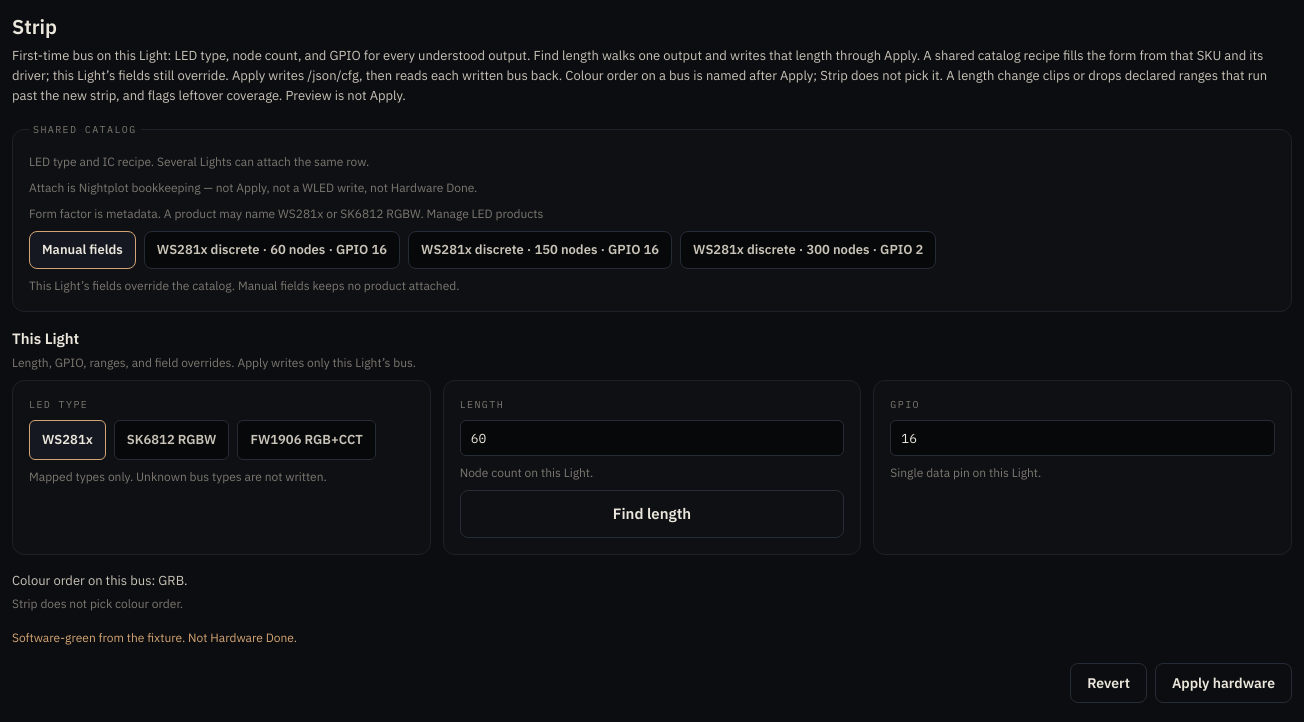
Strip provision › shows the Segment rewrite story after a length-changing Apply
What coordinates should you click on to do the following:
click the button "Apply hardware"
I would click on:
 (1223, 683)
Its box is [1155,663,1292,703].
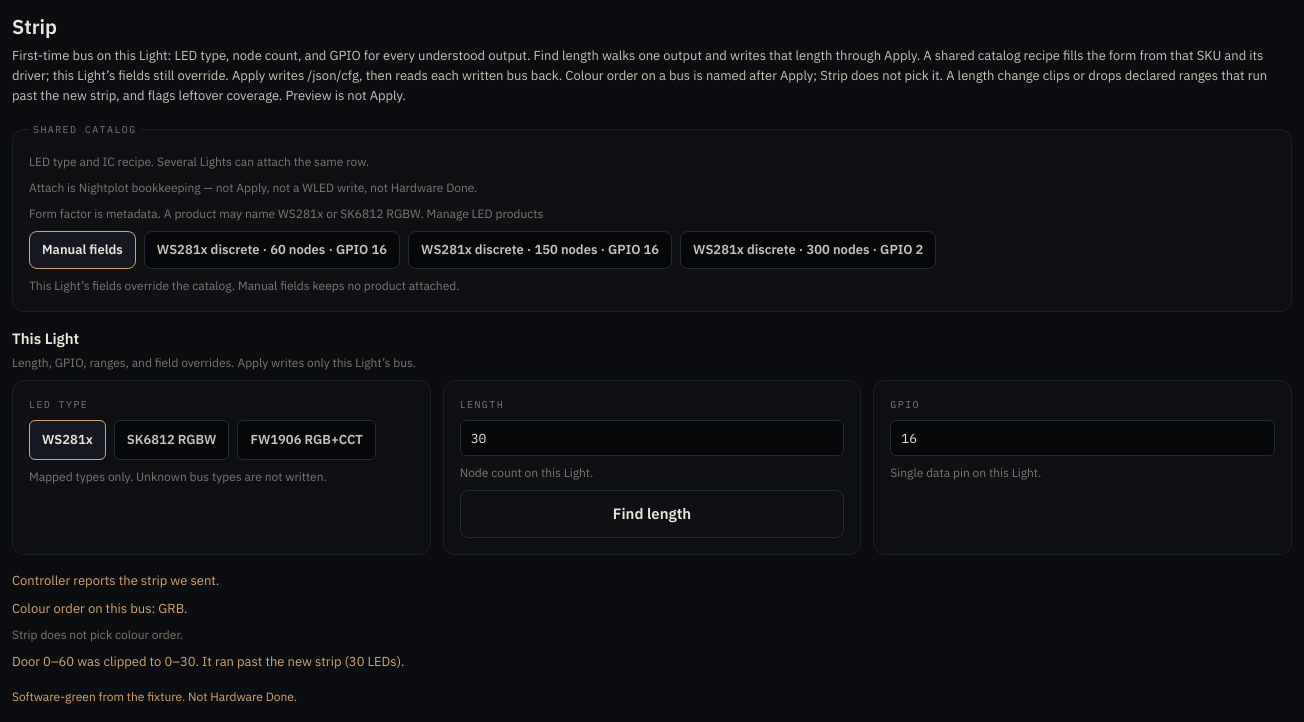
Expected: the text "Controller reports the strip we sent." is shown, [12,572,219,589]
Expected: the text "Door 0–60 was clipped to 0–30. It ran past the new strip (30 LEDs)." is shown, [12,653,405,670]
